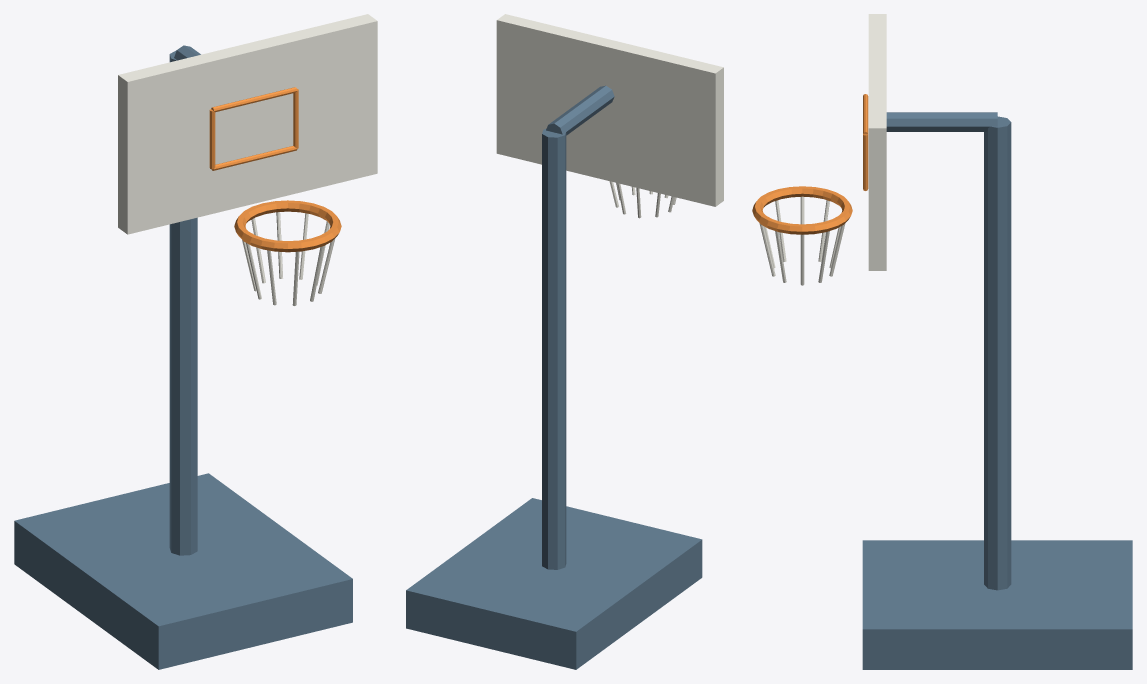
File: basket-hoop.glb
3 views of the same model, side by side, from view 1: azimuth 30°, elevation 25°; view 2: azimuth 150°, elevation 25°; view 3: azimuth 270°, elevation 25° (orthographic). The views are drawn at different scales.
Parts seen in each view (by area): view 1: Cubo; view 2: Cubo; view 3: Cubo.
Part boxes in pixels (x1,y1,x2,y2): Cubo: [14, 14, 377, 669]; Cubo: [406, 14, 723, 669]; Cubo: [752, 14, 1132, 669].
Bounding box in the file's own units: 1.8 × 4.07 × 2.53.
